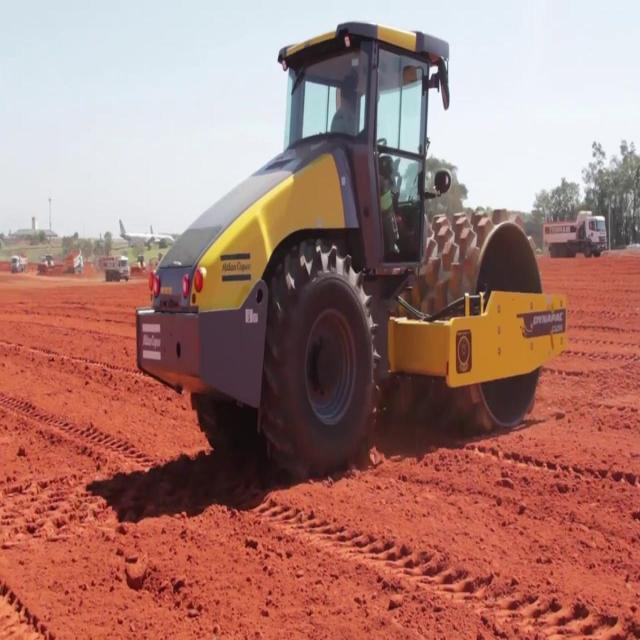Dump Truck: (546, 208, 606, 255)
Roller: (140, 20, 556, 465)
